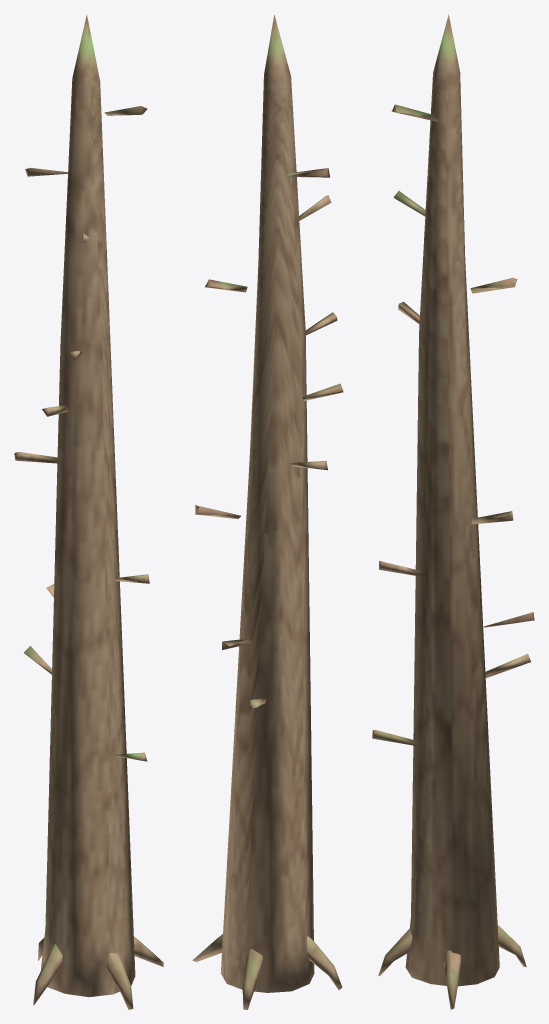
File: pine_trunk_lod1.gltf
The picture shows the model from 3 angles, left to right: view 1: azimuth 30°, elevation 25°; view 2: azimuth 150°, elevation 25°; view 3: azimuth 270°, elevation 25°; orthographic projection.
Parts seen in each view (by area): view 1: pine_trunk_LOD1; view 2: pine_trunk_LOD1; view 3: pine_trunk_LOD1.
Part boxes in pixels (x1=…): pine_trunk_LOD1: x1=14, y1=14, x2=163, y2=1009; pine_trunk_LOD1: x1=192, y1=15, x2=343, y2=1009; pine_trunk_LOD1: x1=372, y1=14, x2=534, y2=1009.
Bounding box in the file's own units: 1.42 × 9.27 × 1.42.
1 material, 1 textured.
